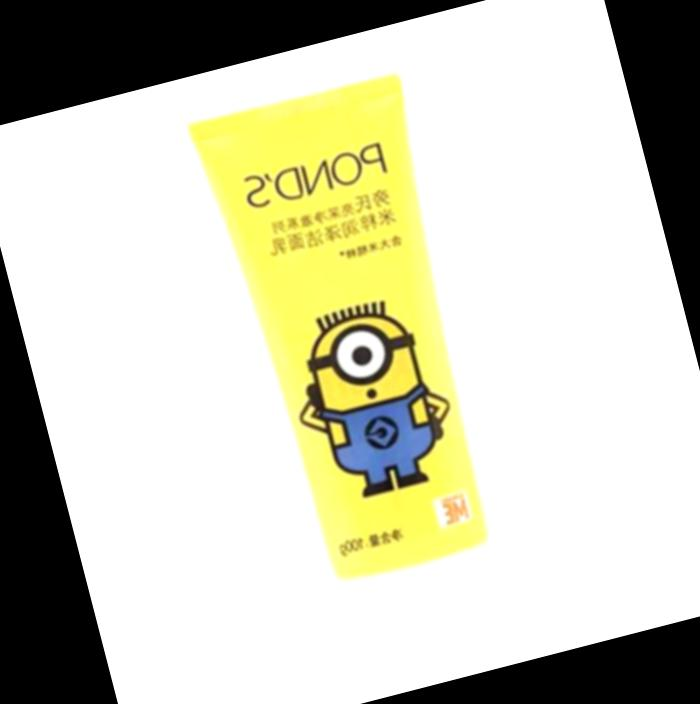cosmetic: (182, 70, 547, 684)
